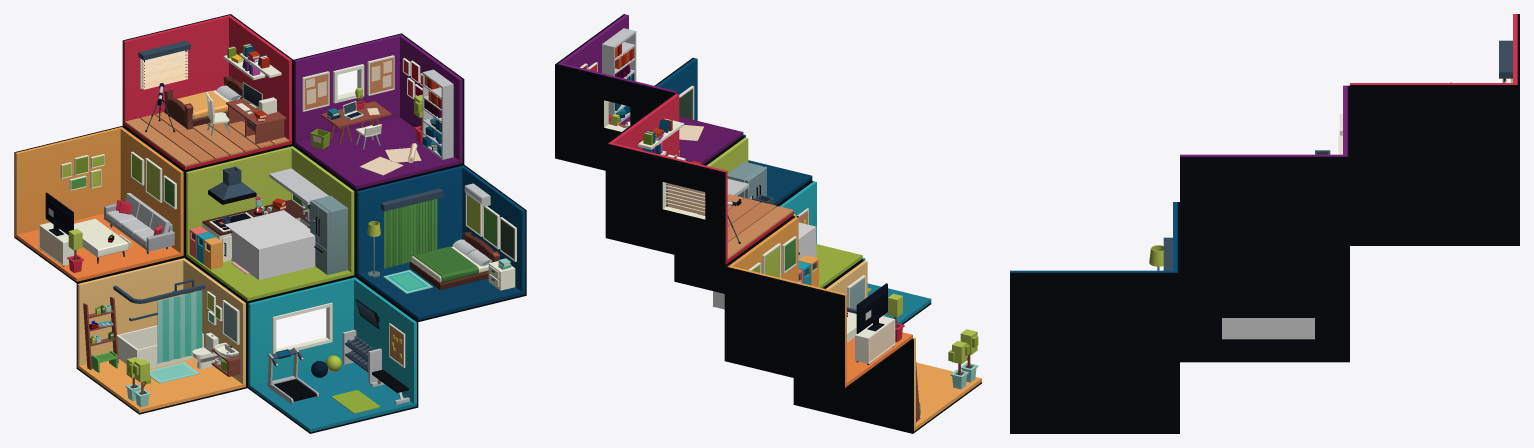
The picture shows the model from 3 angles, left to right: view 1: azimuth 30°, elevation 25°; view 2: azimuth 150°, elevation 25°; view 3: azimuth 270°, elevation 25°; orthographic projection. The views are drawn at different scales.
Parts seen in each view (by area): view 1: Walls1, Walls, Walls2_Colors_0.001, Walls_Colors_0.003, Walls_Colors_0.002, Walls2, Walls_Colors_0.001, Cube, Curtain, Fridge, Bed, BookShelf (+35 smaller); view 2: Walls, Walls2, Walls2_Colors_0.001, Walls_Colors_0.003, Walls_Colors_0.001, Walls_Colors_0.002, Walls1, BookShelf, Dresser, TV, Wood_Plank7, Fridge (+7 smaller); view 3: Walls2_Colors_0.001, Walls_Colors_0.002, Walls2, Walls_Colors_0.001, Walls1, Walls, Walls_Colors_0.003, Cube, Top_Colors_0.001.
Part boxes in pixels (x1,y1,x2,y2): Walls1: (247,276,418,433); Walls: (14,126,184,283); Walls2_Colors_0.001: (293,33,464,190); Walls_Colors_0.003: (76,257,247,414); Walls_Colors_0.002: (356,164,526,321); Walls2: (122,14,293,171); Walls_Colors_0.001: (185,145,355,302); Cube: (224,210,315,280); Curtain: (157,290,202,363); Fridge: (310,195,347,275); Bed: (164,75,242,129); BookShelf: (422,69,453,159); Walls: (724,217,912,390); Walls2: (605,93,793,266); Walls2_Colors_0.001: (555,14,743,170); Walls_Colors_0.003: (793,260,981,433); Walls_Colors_0.001: (674,137,862,293); Walls_Colors_0.002: (654,57,812,206); Walls1: (777,181,931,324); BookShelf: (602,28,636,123); Dresser: (855,316,895,364); TV: (856,283,887,333); Wood_Plank7: (727,206,793,259); Fridge: (727,161,766,199); Walls2_Colors_0.001: (1180,85,1349,273); Walls_Colors_0.002: (1010,202,1179,389); Walls2: (1350,14,1519,201); Walls_Colors_0.001: (1180,273,1349,317); Walls1: (1010,389,1179,433); Walls: (1350,202,1519,245); Walls_Colors_0.003: (1180,318,1349,362); Cube: (1222,318,1314,339); Top_Colors_0.001: (1499,40,1512,78).
Size of the model in its own units: 10.95 by 8.25 by 10.95.
3 materials, 2 textured.
